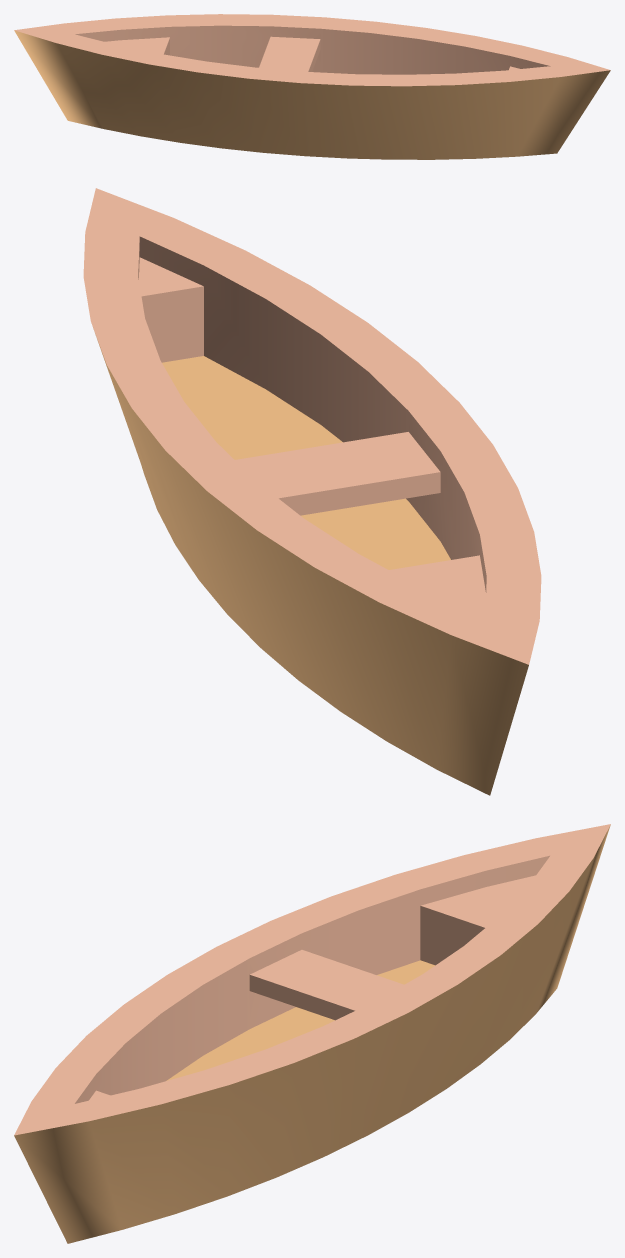
File: canoe.glb
3 renders of one model, top to bottom at view 1: azimuth 30°, elevation 25°; view 2: azimuth 150°, elevation 25°; view 3: azimuth 270°, elevation 25°, orthographic. The views are drawn at different scales.
Visible parts, largest first — view 1: canoe; view 2: canoe; view 3: canoe.
Boxes of the visible parts, x1,y1,x2,y2 form: canoe: [14, 14, 610, 159]; canoe: [83, 188, 541, 795]; canoe: [14, 824, 610, 1243].
Bounding box in the file's own units: 0.8937 × 0.1825 × 0.7237.
